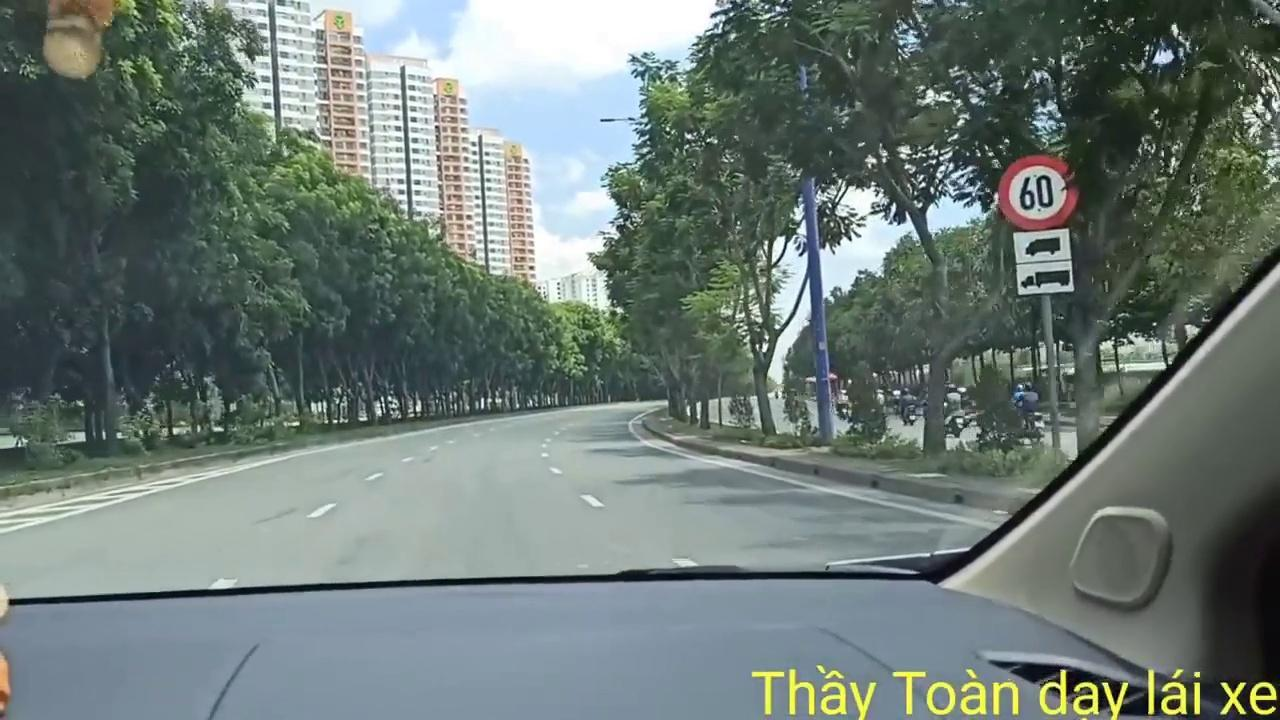Biển phụ: (1013, 229, 1076, 296)
GIơi hạn tốc độ 60Km/h: (998, 151, 1079, 230)
